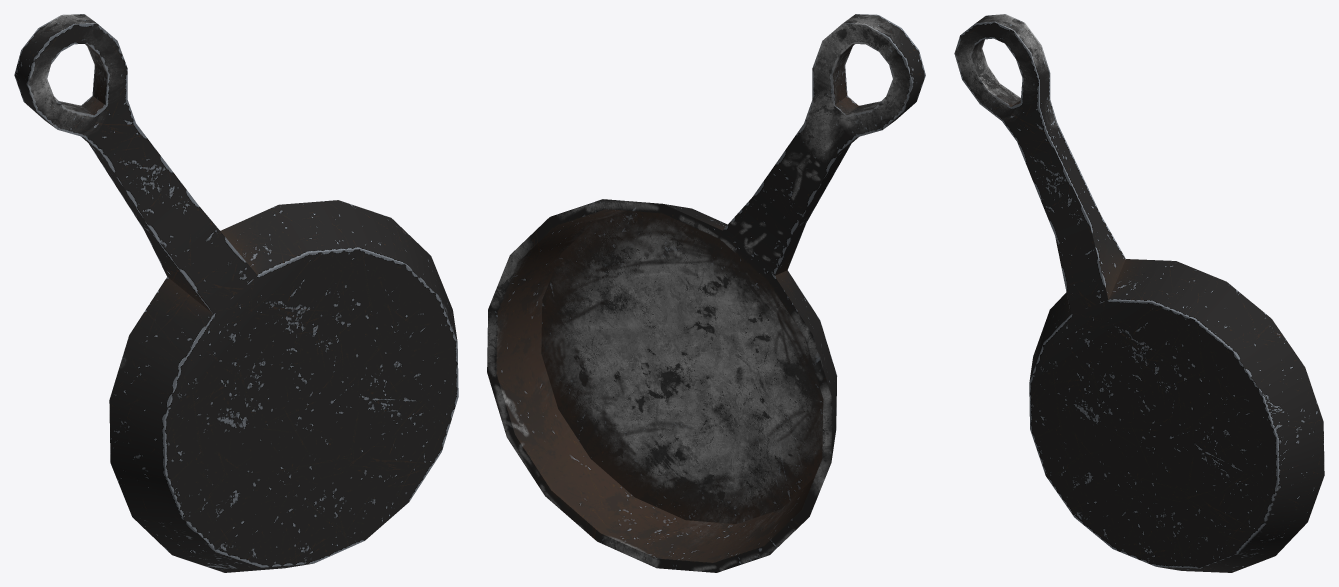
Rendered from BACK_CHIBI_SKILLET.fbx.
3 views of the same model, side by side, from view 1: azimuth 30°, elevation 25°; view 2: azimuth 150°, elevation 25°; view 3: azimuth 330°, elevation 25° (orthographic). The views are drawn at different scales.
Visible parts, largest first — view 1: BACK_CHIBI_SKILLET; view 2: BACK_CHIBI_SKILLET; view 3: BACK_CHIBI_SKILLET.
Part boxes in pixels (x1,y1,x2,y2): BACK_CHIBI_SKILLET: [14, 14, 458, 572]; BACK_CHIBI_SKILLET: [487, 14, 925, 572]; BACK_CHIBI_SKILLET: [954, 14, 1324, 572].
Size of the model in its own units: 0.04 by 0.0532 by 0.006.
